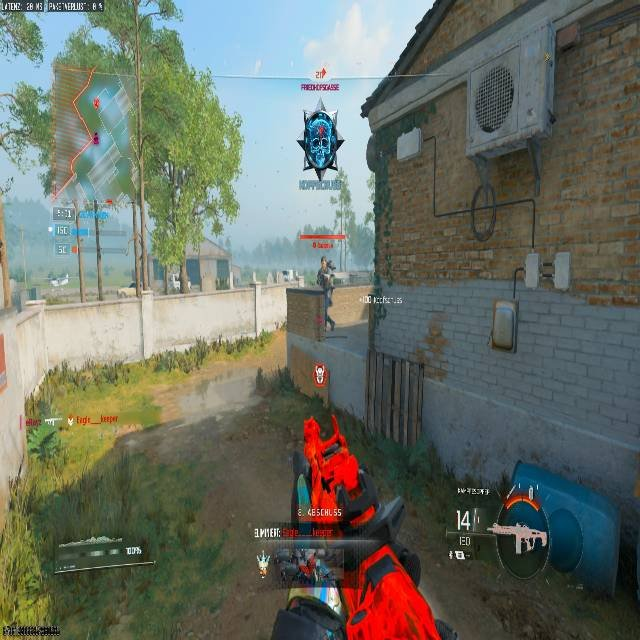head: (319, 255, 334, 273), (320, 256, 329, 265)
player: (312, 256, 341, 330), (317, 256, 336, 304)
